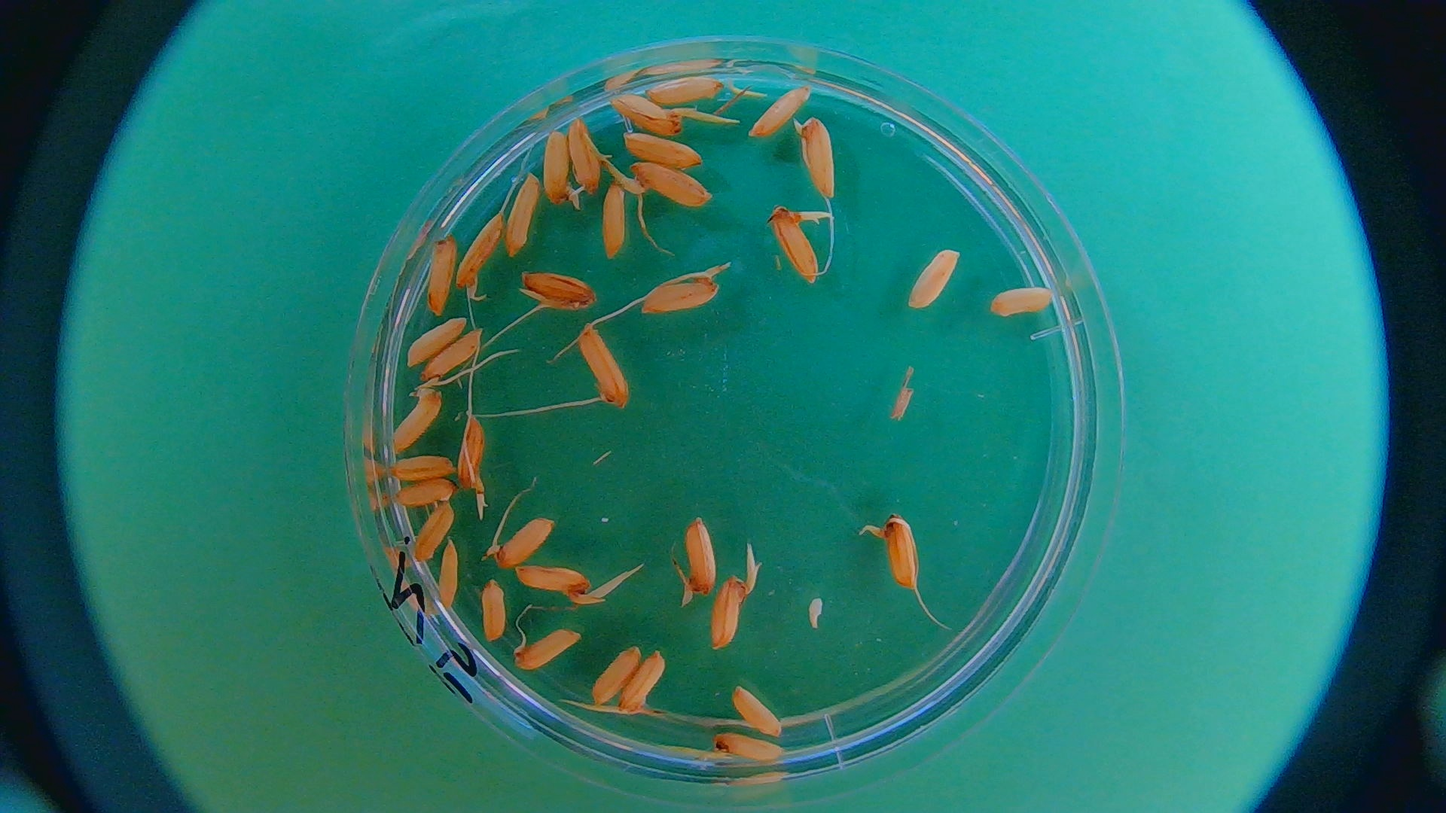no: (456, 210, 507, 297), (747, 79, 816, 142), (392, 384, 449, 456), (401, 311, 471, 367), (615, 124, 706, 167), (907, 245, 962, 313), (566, 113, 606, 198), (731, 683, 791, 738), (504, 169, 540, 260), (426, 233, 462, 321), (591, 644, 641, 707), (411, 497, 454, 563), (643, 71, 725, 105), (381, 450, 463, 484), (987, 282, 1055, 323), (603, 175, 630, 260), (389, 477, 457, 510), (480, 576, 512, 644), (438, 537, 463, 614)
yes: (635, 271, 725, 319), (576, 328, 630, 408), (767, 207, 823, 282), (484, 513, 559, 568), (419, 329, 487, 388), (629, 161, 712, 206), (798, 115, 840, 202), (616, 647, 667, 717), (877, 513, 923, 588), (541, 129, 581, 209), (518, 271, 596, 312), (514, 563, 592, 604), (609, 93, 678, 136), (511, 630, 584, 670), (707, 572, 743, 650), (684, 519, 721, 594), (708, 732, 792, 765), (456, 412, 491, 489)
